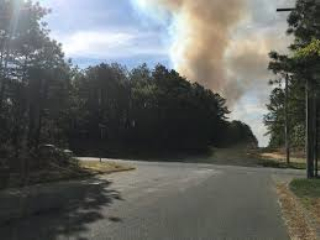smoke: (154, 3, 277, 127)
